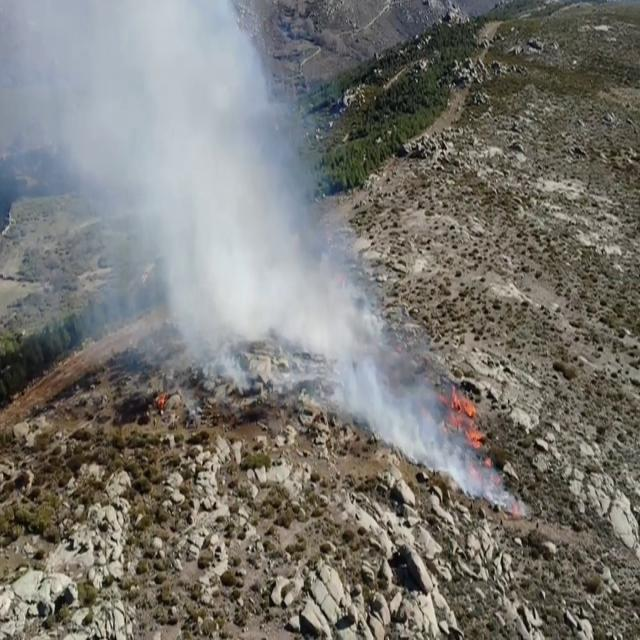Smoke: (2, 1, 468, 474)
